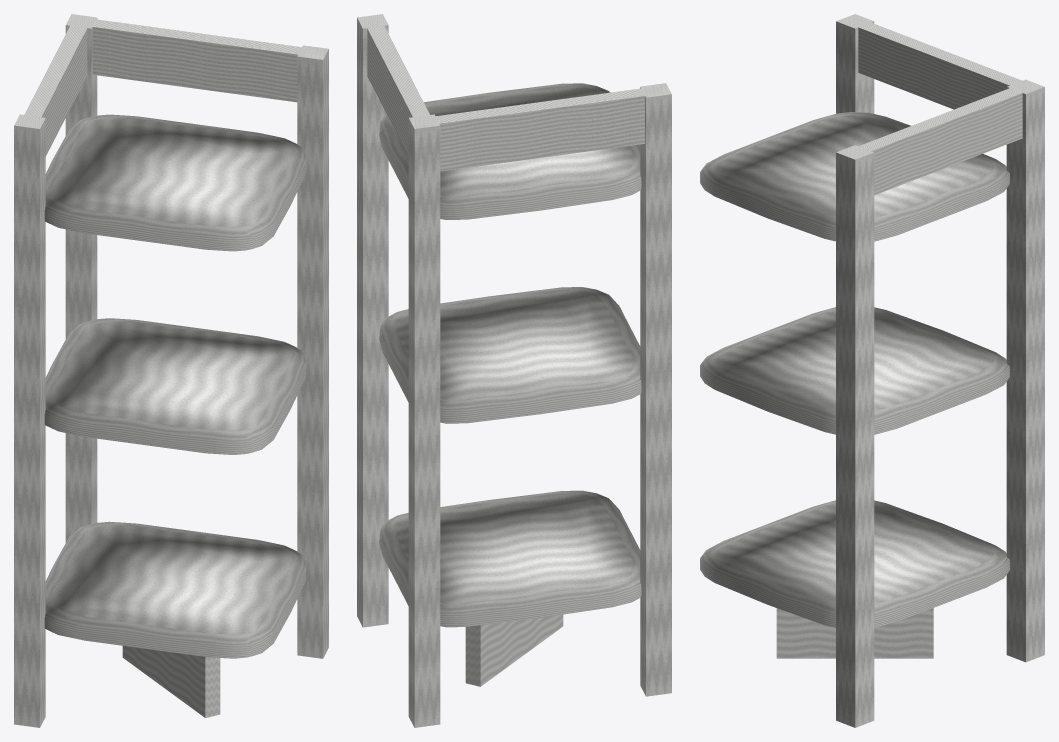
The picture shows the model from 3 angles, left to right: view 1: azimuth 30°, elevation 25°; view 2: azimuth 150°, elevation 25°; view 3: azimuth 270°, elevation 25°; orthographic projection. The views are drawn at different scales.
Visible parts, largest first — view 1: 6 top_shelf, 4 bottom_shelf, 5 middle_shelf, 2 front_left_post, 3 front_right_post, 8 right_top_rail, 1 back_corner_post, 9 bottom_center_support, 7 left_top_rail; view 2: 5 middle_shelf, 4 bottom_shelf, 1 back_corner_post, 2 front_left_post, 3 front_right_post, 6 top_shelf, 7 left_top_rail, 9 bottom_center_support, 8 right_top_rail; view 3: 3 front_right_post, 4 bottom_shelf, 5 middle_shelf, 1 back_corner_post, 6 top_shelf, 8 right_top_rail, 7 left_top_rail, 9 bottom_center_support, 2 front_left_post.
Boxes of the visible parts, left/top/right/bottom form: 6 top_shelf: left=44, top=114, right=305, bottom=251; 4 bottom_shelf: left=44, top=521, right=305, bottom=658; 5 middle_shelf: left=44, top=318, right=305, bottom=454; 2 front_left_post: left=14, top=114, right=45, bottom=727; 3 front_right_post: left=297, top=45, right=328, bottom=658; 8 right_top_rail: left=82, top=17, right=314, bottom=102; 1 back_corner_post: left=65, top=14, right=97, bottom=542; 9 bottom_center_support: left=122, top=646, right=220, bottom=717; 7 left_top_rail: left=23, top=26, right=87, bottom=156; 5 middle_shelf: left=379, top=287, right=641, bottom=423; 4 bottom_shelf: left=379, top=490, right=641, bottom=627; 1 back_corner_post: left=408, top=114, right=440, bottom=727; 2 front_left_post: left=640, top=83, right=671, bottom=696; 3 front_right_post: left=357, top=14, right=388, bottom=627; 6 top_shelf: left=379, top=83, right=641, bottom=219; 7 left_top_rail: left=424, top=88, right=653, bottom=171; 9 bottom_center_support: left=465, top=614, right=563, bottom=686; 8 right_top_rail: left=365, top=20, right=432, bottom=155; 3 front_right_post: left=836, top=145, right=874, bottom=727; 4 bottom_shelf: left=700, top=500, right=1009, bottom=627; 5 middle_shelf: left=700, top=307, right=1009, bottom=434; 1 back_corner_post: left=1006, top=79, right=1044, bottom=662; 6 top_shelf: left=700, top=112, right=1009, bottom=241; 8 right_top_rail: left=859, top=88, right=1022, bottom=195; 7 left_top_rail: left=858, top=19, right=1031, bottom=109; 9 bottom_center_support: left=776, top=608, right=933, bottom=658; 2 front_left_post: left=836, top=14, right=874, bottom=113.
Size of the model in its own units: 0.55 by 1 by 0.55.
1 material, 1 textured.
